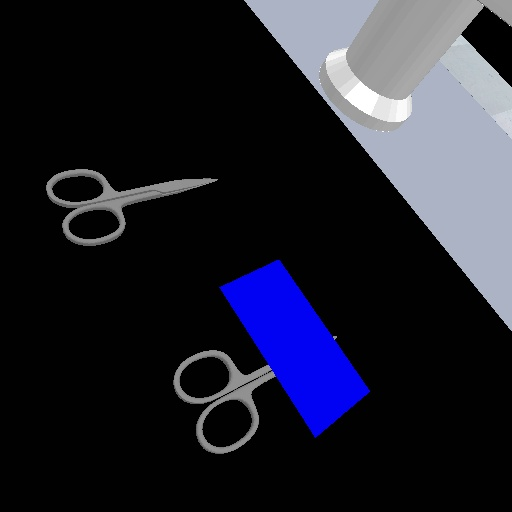tijera: (43, 163, 220, 250), (168, 346, 278, 456)
